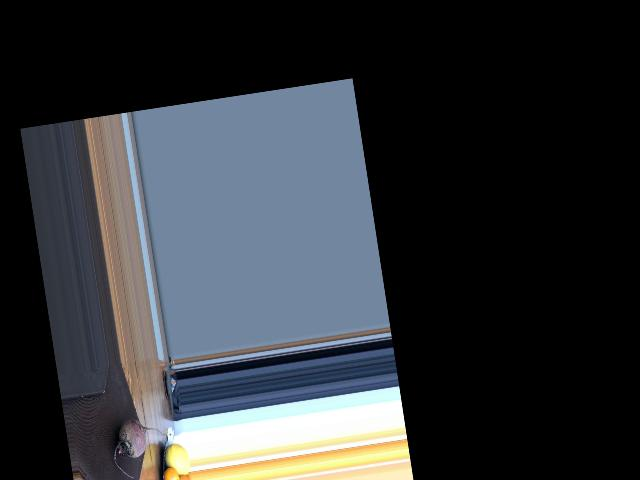beet: (108, 414, 168, 480)
